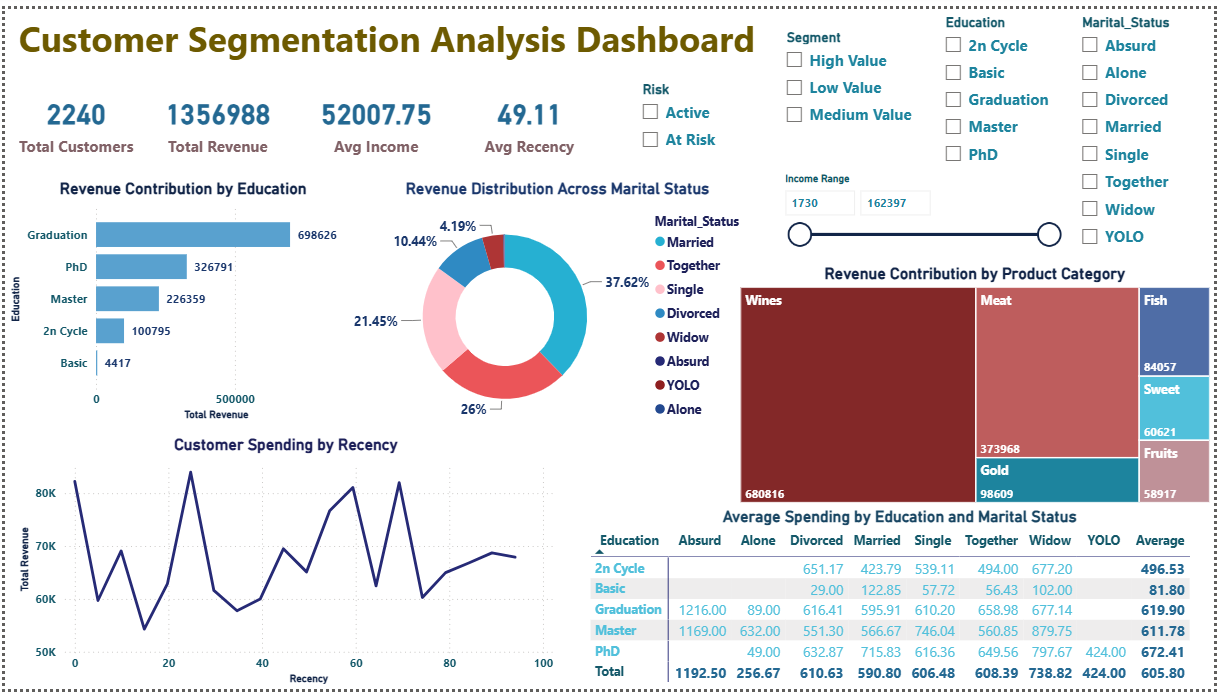

Layout of this report page (visuals, bound fields, positions):
{"tool":"powerbi","page":{"name":"Page 1","canvas":[1280,720],"ordinal":0},"visuals":[{"type":"textbox","box":[9.4,0,795.6,71.8],"z":0},{"type":"card","fields":{"Values":["Count(Customer_segments.cumstomer_ID)"]},"box":[0,71.2,149.9,96.9],"z":1000},{"type":"card","fields":{"Values":["Customer_segments.Total Revenue"]},"box":[149.9,71.2,151.4,96.9],"z":2000},{"type":"card","fields":{"Values":["Avg(Customer_segments.Income)"]},"box":[318,71.2,149.9,96.9],"z":3000},{"type":"card","fields":{"Values":["Avg(Customer_segments.Recency)"]},"box":[467.9,71.2,172.6,96.9],"z":4000},{"type":"clusteredBarChart","title":"Revenue Contribution by Education","fields":{"Category":["Customer_segments.Education"],"Y":["Calculated Measures.Total Revenue"]},"box":[0,178.7,377,260.4],"z":5000},{"type":"donutChart","title":"Revenue Distribution Across Marital Status","fields":{"Category":["Customer_segments.Marital_Status"],"Y":["Calculated Measures.Total Revenue"]},"box":[364.9,178.7,439.1,272.6],"z":6000},{"type":"lineChart","title":"Customer Spending by Recency","fields":{"Y":["Calculated Measures.Total Revenue"],"Category":["Customer_segments.Recency (bins)"]},"box":[9.1,451.2,575.4,268],"z":7000},{"type":"pivotTable","title":"Average Spending by Education and Marital Status","fields":{"Rows":["Customer_segments.Education"],"Columns":["Customer_segments.Marital_Status"],"Values":["Avg(Customer_segments.Total_Spend)"]},"box":[614.3,527,665.1,192.1],"z":8000},{"type":"treemap","title":"Revenue Contribution by Product Category","fields":{"Group":["Product_Analysis.Product_Catageory"],"Values":["Sum(Product_Analysis.Revenue)"]},"box":[773,269.8,506.3,257.1],"z":9000},{"type":"slicer","fields":{"Values":["Customer_segments.Education"]},"box":[982.7,0,143.8,178.7],"z":10000},{"type":"slicer","fields":{"Values":["Customer_segments.Marital_Status"]},"box":[1126.6,0,152.9,269.5],"z":11000},{"type":"slicer","fields":{"Values":["Customer_segments.Segment"]},"box":[814.6,15.1,156,128.7],"z":12000},{"type":"slicer","fields":{"Values":["Customer_segments.Risk"]},"box":[661.7,71.2,151.4,96.9],"z":13000},{"type":"slicer","fields":{"Values":["Customer_segments.Income"]},"box":[813.1,168.1,313.4,86.3],"z":14000}]}

Visuals, with their boxes in screenshot pixels (x1, y1, x2, y2), scaled from the page's 1280x720 canvas onto the 1219x694 screenshot:
textbox: (9,0,767,69)
card - Count(Customer_segments.cumstomer_ID): (0,69,143,162)
card - Customer_segments.Total Revenue: (143,69,287,162)
card - Avg(Customer_segments.Income): (303,69,446,162)
card - Avg(Customer_segments.Recency): (446,69,610,162)
"Revenue Contribution by Education" clusteredBarChart: (0,172,359,423)
"Revenue Distribution Across Marital Status" donutChart: (348,172,766,435)
"Customer Spending by Recency" lineChart: (9,435,557,693)
"Average Spending by Education and Marital Status" pivotTable: (585,508,1218,693)
"Revenue Contribution by Product Category" treemap: (736,260,1218,508)
slicer - Customer_segments.Education: (936,0,1073,172)
slicer - Customer_segments.Marital_Status: (1073,0,1218,260)
slicer - Customer_segments.Segment: (776,15,924,139)
slicer - Customer_segments.Risk: (630,69,774,162)
slicer - Customer_segments.Income: (774,162,1073,245)
